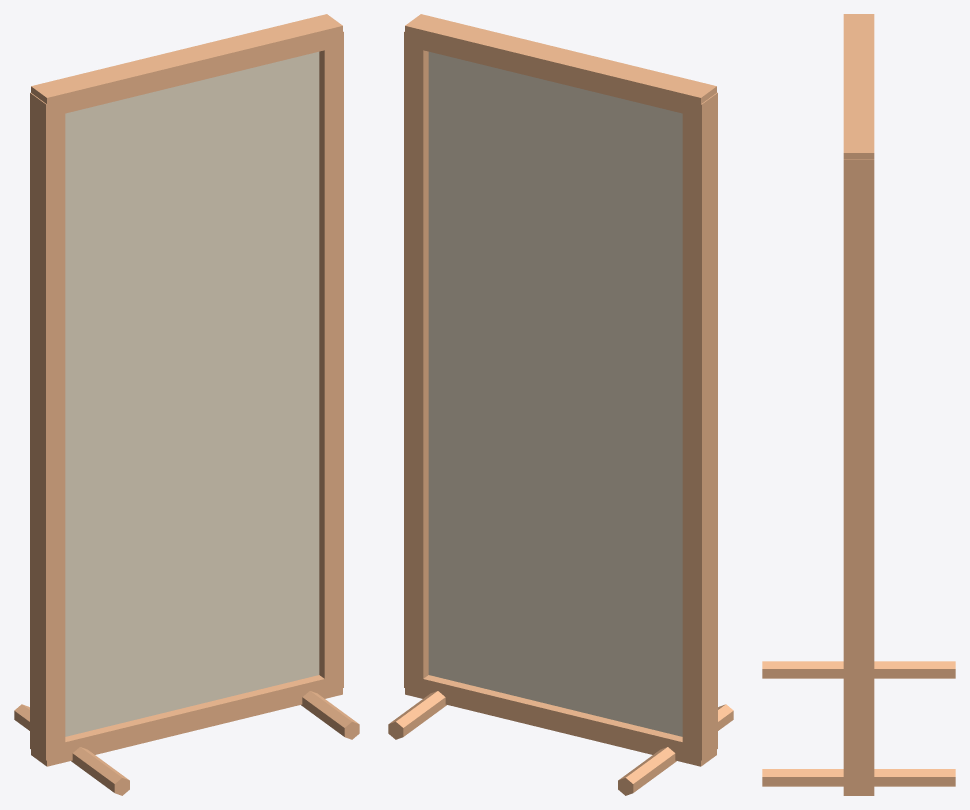
3 renders of one model, left to right at view 1: azimuth 30°, elevation 25°; view 2: azimuth 150°, elevation 25°; view 3: azimuth 270°, elevation 25°, orthographic. The views are drawn at different scales.
Parts seen in each view (by area): view 1: Mirror face, Frame, Frame.001, Frame.003, Frame.002, Foot, Foot.001; view 2: Mirror face, Frame, Frame.001, Frame.003, Frame.002, Foot, Foot.001; view 3: Frame.001, Frame.003, Foot, Foot.001.
Part boxes in pixels (x1,y1,x2,y2): Mirror face: (65, 51, 319, 736); Frame: (30, 92, 65, 760); Frame.001: (319, 31, 343, 692); Frame.003: (31, 14, 342, 116); Frame.002: (31, 675, 342, 766); Foot: (14, 704, 129, 795); Foot.001: (301, 691, 359, 739); Mirror face: (428, 51, 682, 736); Frame: (682, 92, 717, 760); Frame.001: (404, 31, 428, 692); Frame.003: (405, 14, 716, 113); Frame.002: (405, 674, 716, 766); Foot: (618, 704, 733, 795); Foot.001: (388, 691, 446, 739); Frame.001: (843, 159, 874, 790); Frame.003: (843, 14, 874, 158); Foot: (762, 661, 955, 678); Foot.001: (762, 769, 955, 786).
Size of the model in its own units: 0.855 by 1.85 by 0.5.
1 material, 1 textured.
